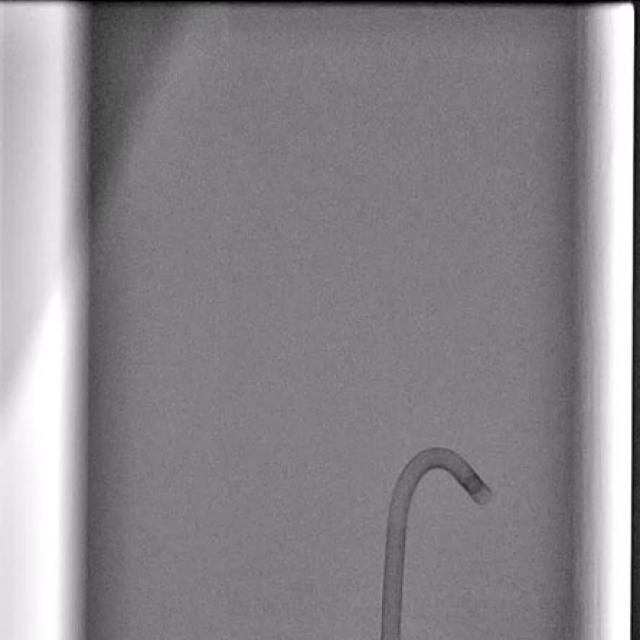bend: (388, 509, 408, 523)
entry: (381, 634, 399, 640)
marker: (462, 472, 483, 494)
tip: (481, 493, 495, 508)
